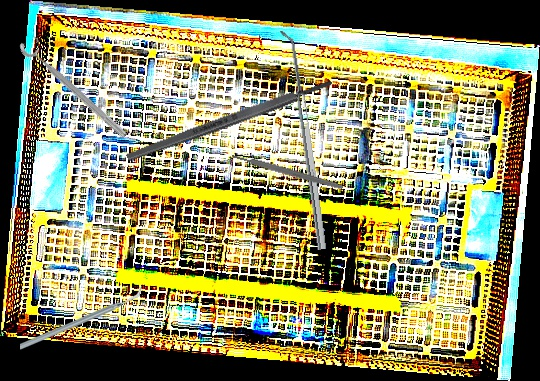Chopper: (20, 286, 142, 350)
Fixation Ring: (16, 31, 136, 142)
Scalpel Handle: (124, 76, 335, 164), (231, 152, 344, 191)
Spatula Surgical: (278, 28, 327, 252)
